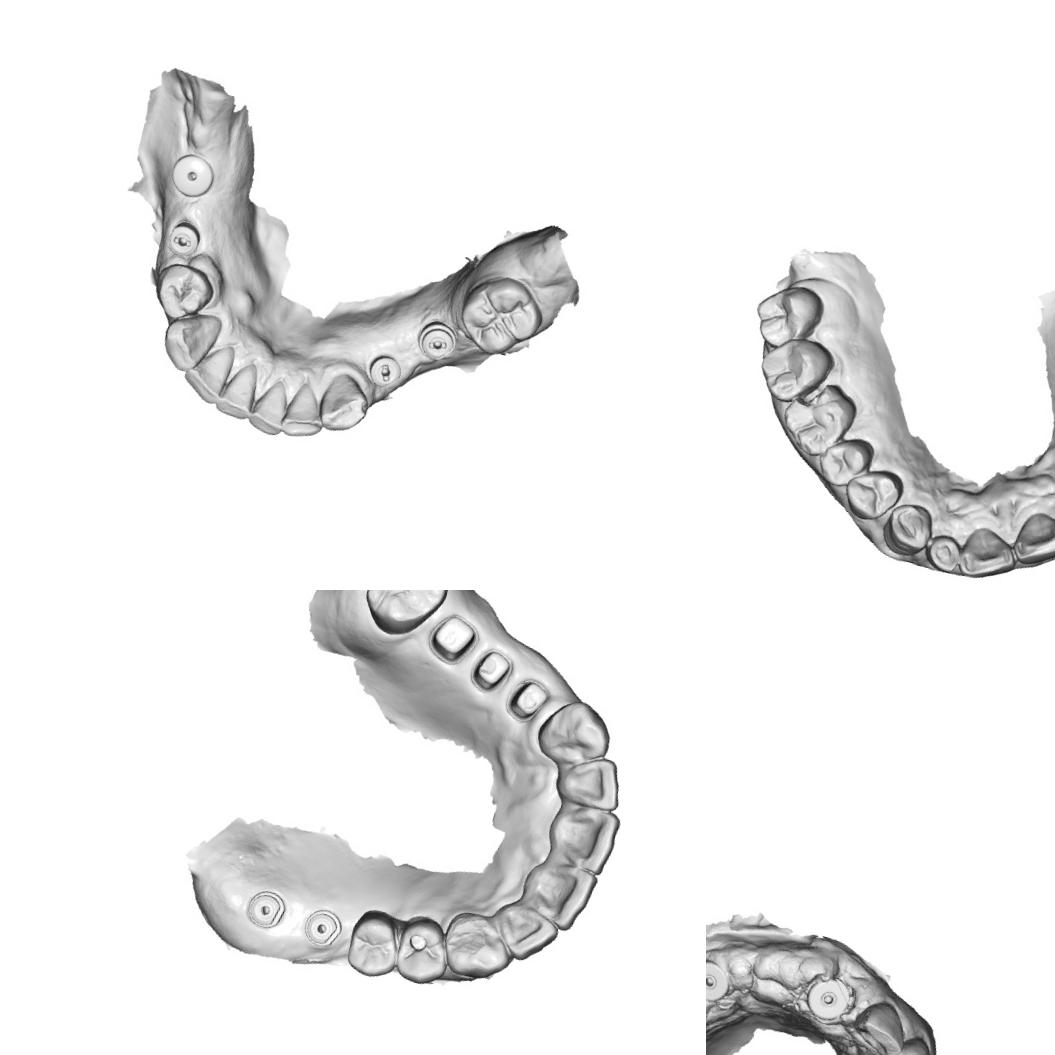abutment: (421, 601, 485, 673), (464, 635, 520, 702), (500, 665, 550, 725)
canine: (529, 687, 617, 774), (435, 902, 519, 990), (150, 305, 227, 381), (312, 366, 376, 438), (875, 495, 939, 562), (870, 1029, 942, 1055)
implant: (233, 877, 297, 942), (162, 144, 226, 206), (290, 895, 352, 959), (800, 970, 854, 1024), (706, 955, 736, 1007)
implant_minus: (412, 312, 463, 368), (158, 208, 207, 260), (361, 347, 407, 394)
incisor: (541, 793, 628, 878), (512, 854, 598, 938), (545, 742, 630, 820), (486, 896, 564, 967), (952, 514, 1024, 584), (175, 338, 242, 410), (209, 353, 270, 425), (845, 993, 914, 1055), (274, 376, 334, 446), (239, 372, 300, 440), (1013, 500, 1055, 572), (920, 528, 964, 575)
molar: (449, 266, 551, 365), (774, 372, 863, 465), (750, 328, 840, 412), (746, 276, 829, 358), (351, 590, 456, 653)
premolar: (387, 906, 461, 992), (340, 904, 410, 984), (147, 256, 220, 327), (838, 460, 908, 528), (812, 428, 876, 494)
